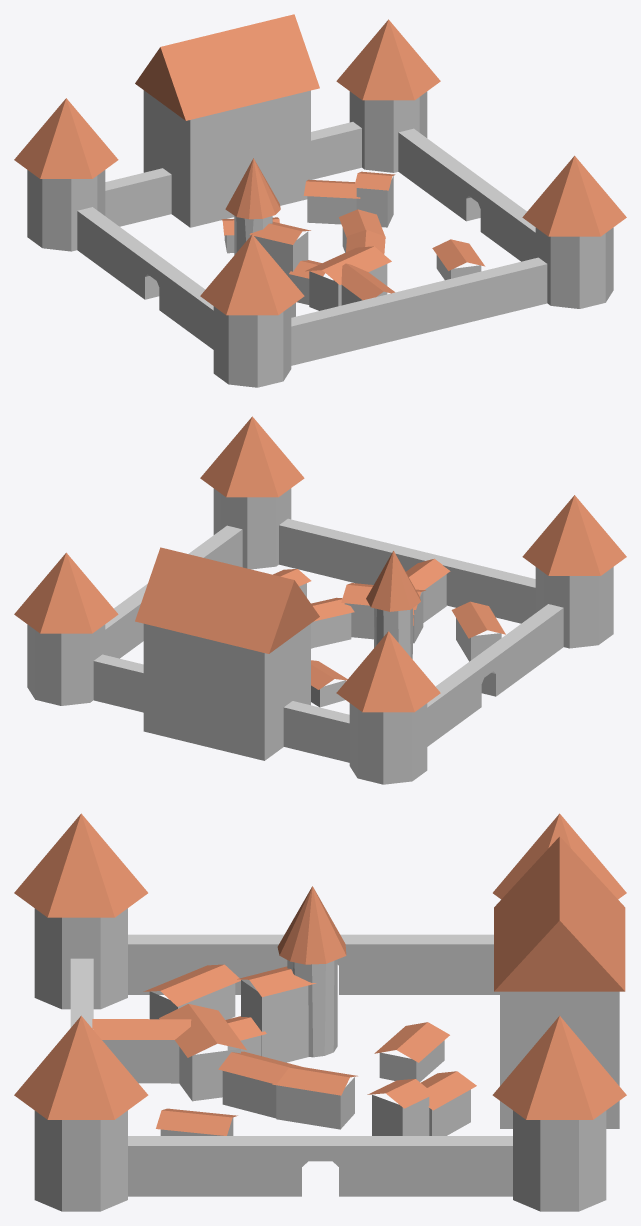
Rendered from castle.glb.
The picture shows the model from 3 angles, top to bottom: view 1: azimuth 30°, elevation 25°; view 2: azimuth 150°, elevation 25°; view 3: azimuth 270°, elevation 25°; orthographic projection. The views are drawn at different scales.
Parts seen in each view (by area): view 1: Plane.002, Plane.001, Cube.001, Cube.012, Plane.004, Plane.006, Plane.003, Plane.005, Cube.003, Cube.008, Cone, Cube.005 (+7 smaller); view 2: Plane.002, Plane.001, Cube.001, Cube.012, Plane.005, Plane.003, Plane.006, Plane.004, Cube.009, Cone, Cube.003, Cube.002 (+3 smaller); view 3: Plane.002, Plane.001, Cube.012, Plane.004, Plane.003, Plane.006, Cube.001, Cube.005, Cube.006, Cube.003, Cube.011, Cube.009 (+9 smaller).
Part boxes in pixels (<box>): Plane.002: <box>77,122,547,365</box>; Plane.001: <box>27,91,613,387</box>; Cube.001: <box>143,90,310,227</box>; Cube.012: <box>135,14,319,120</box>; Plane.004: <box>200,234,304,315</box>; Plane.006: <box>336,19,440,100</box>; Plane.003: <box>522,155,626,236</box>; Plane.005: <box>14,98,118,178</box>; Cube.003: <box>305,246,391,310</box>; Cube.008: <box>303,179,360,224</box>; Cone: <box>225,158,280,219</box>; Cube.005: <box>249,222,310,280</box>; Plane.002: <box>93,518,563,762</box>; Plane.001: <box>27,488,613,784</box>; Cube.001: <box>143,623,310,760</box>; Cube.012: <box>135,547,319,653</box>; Plane.005: <box>336,631,440,712</box>; Plane.003: <box>200,416,304,497</box>; Plane.006: <box>14,552,118,633</box>; Plane.004: <box>522,495,626,575</box>; Cube.009: <box>451,601,505,661</box>; Cone: <box>366,551,420,611</box>; Cube.003: <box>341,583,425,643</box>; Cube.002: <box>311,597,354,648</box>; Plane.002: <box>70,934,512,1196</box>; Plane.001: <box>34,908,606,1211</box>; Cube.012: <box>494,836,625,991</box>; Plane.004: <box>14,813,147,917</box>; Plane.003: <box>14,1015,148,1119</box>; Plane.006: <box>492,1015,626,1119</box>; Cube.001: <box>500,991,619,1128</box>; Cube.005: <box>237,966,316,1062</box>; Cube.006: <box>92,1019,191,1083</box>; Cube.003: <box>159,1004,246,1101</box>; Cube.011: <box>272,1067,357,1129</box>; Cube.009: <box>143,964,240,1019</box>.
Size of the model in its own units: 0.9949 by 0.3931 by 1.03.
